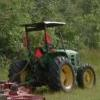Tractor: (12, 14, 86, 100)
